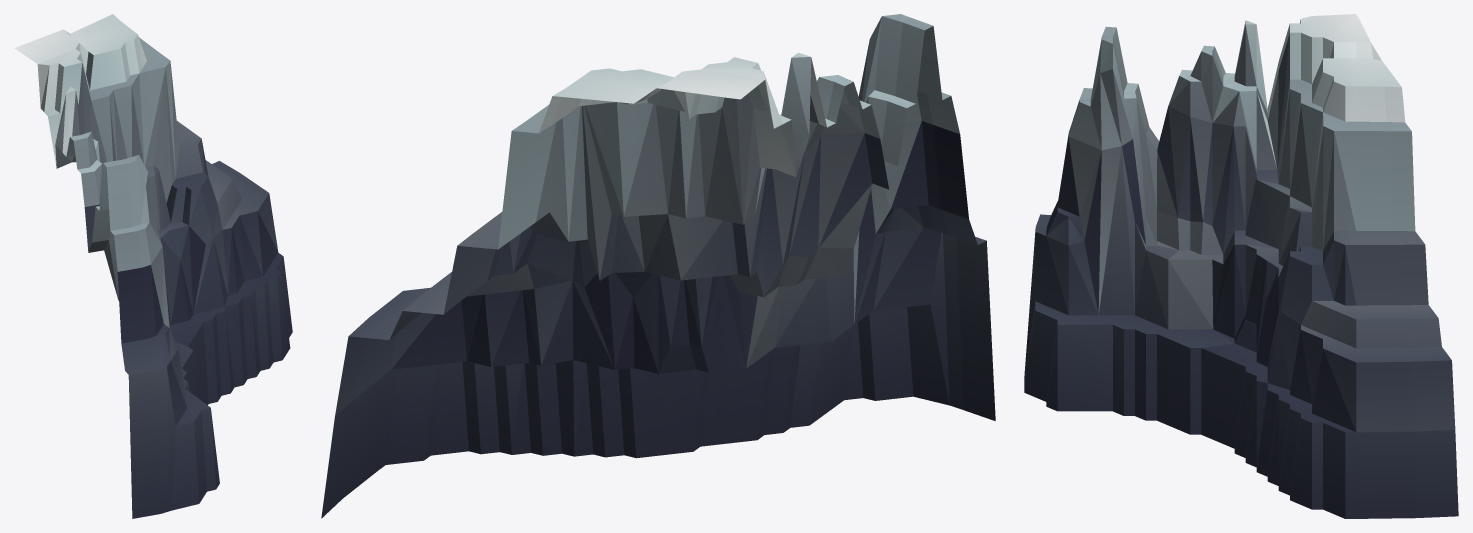
File: Terrain_Mountains03.fbx
3 renders of one model, left to right at view 1: azimuth 30°, elevation 25°; view 2: azimuth 150°, elevation 25°; view 3: azimuth 270°, elevation 25°, orthographic. The views are drawn at different scales.
Parts seen in each view (by area): view 1: Plane.001; view 2: Plane.001; view 3: Plane.001.
Boxes of the visible parts, x1,y1,x2,y2 form: Plane.001: (14, 14, 292, 518); Plane.001: (321, 14, 995, 518); Plane.001: (1024, 14, 1458, 518).
Size of the model in its own units: 19301 by 20656 by 22226.
